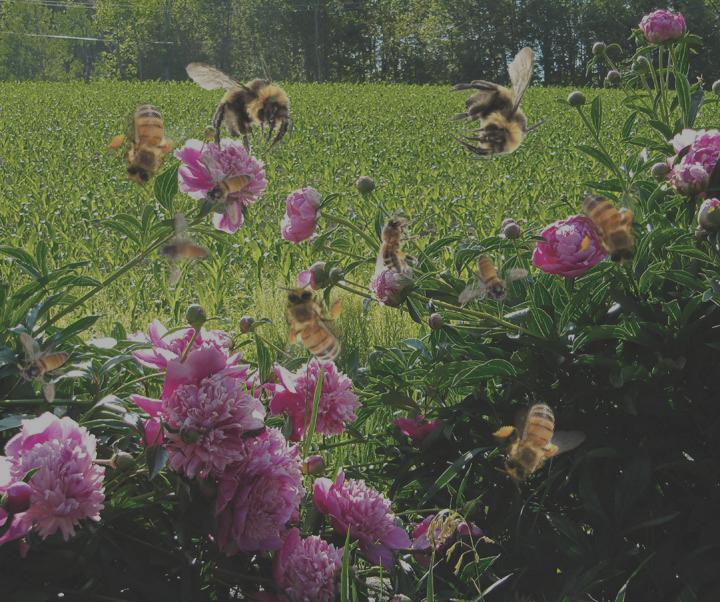Bee: (174, 42, 303, 165), (91, 84, 203, 201), (475, 386, 591, 497), (446, 46, 553, 161), (142, 209, 222, 296), (576, 180, 644, 273), (278, 281, 346, 374), (201, 153, 253, 226), (458, 254, 529, 304), (19, 332, 69, 403), (375, 208, 420, 274)
